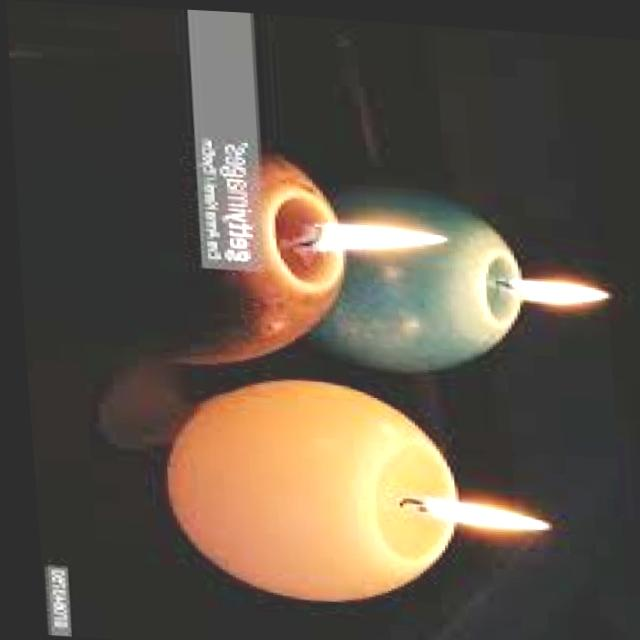Fire: (382, 470, 546, 537), (287, 203, 455, 264), (481, 256, 625, 313)
